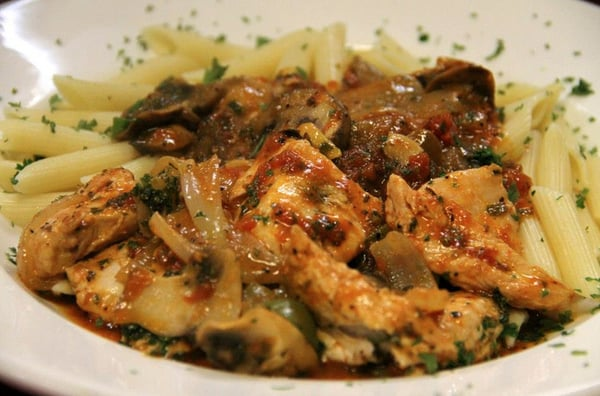curry: (133, 169, 181, 213)
